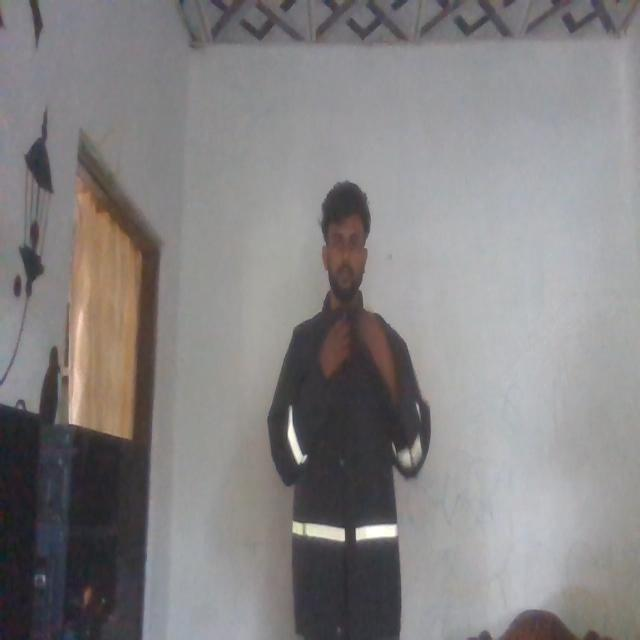Jacket_Wearer: (266, 288, 430, 640)
Person: (266, 172, 434, 640)
